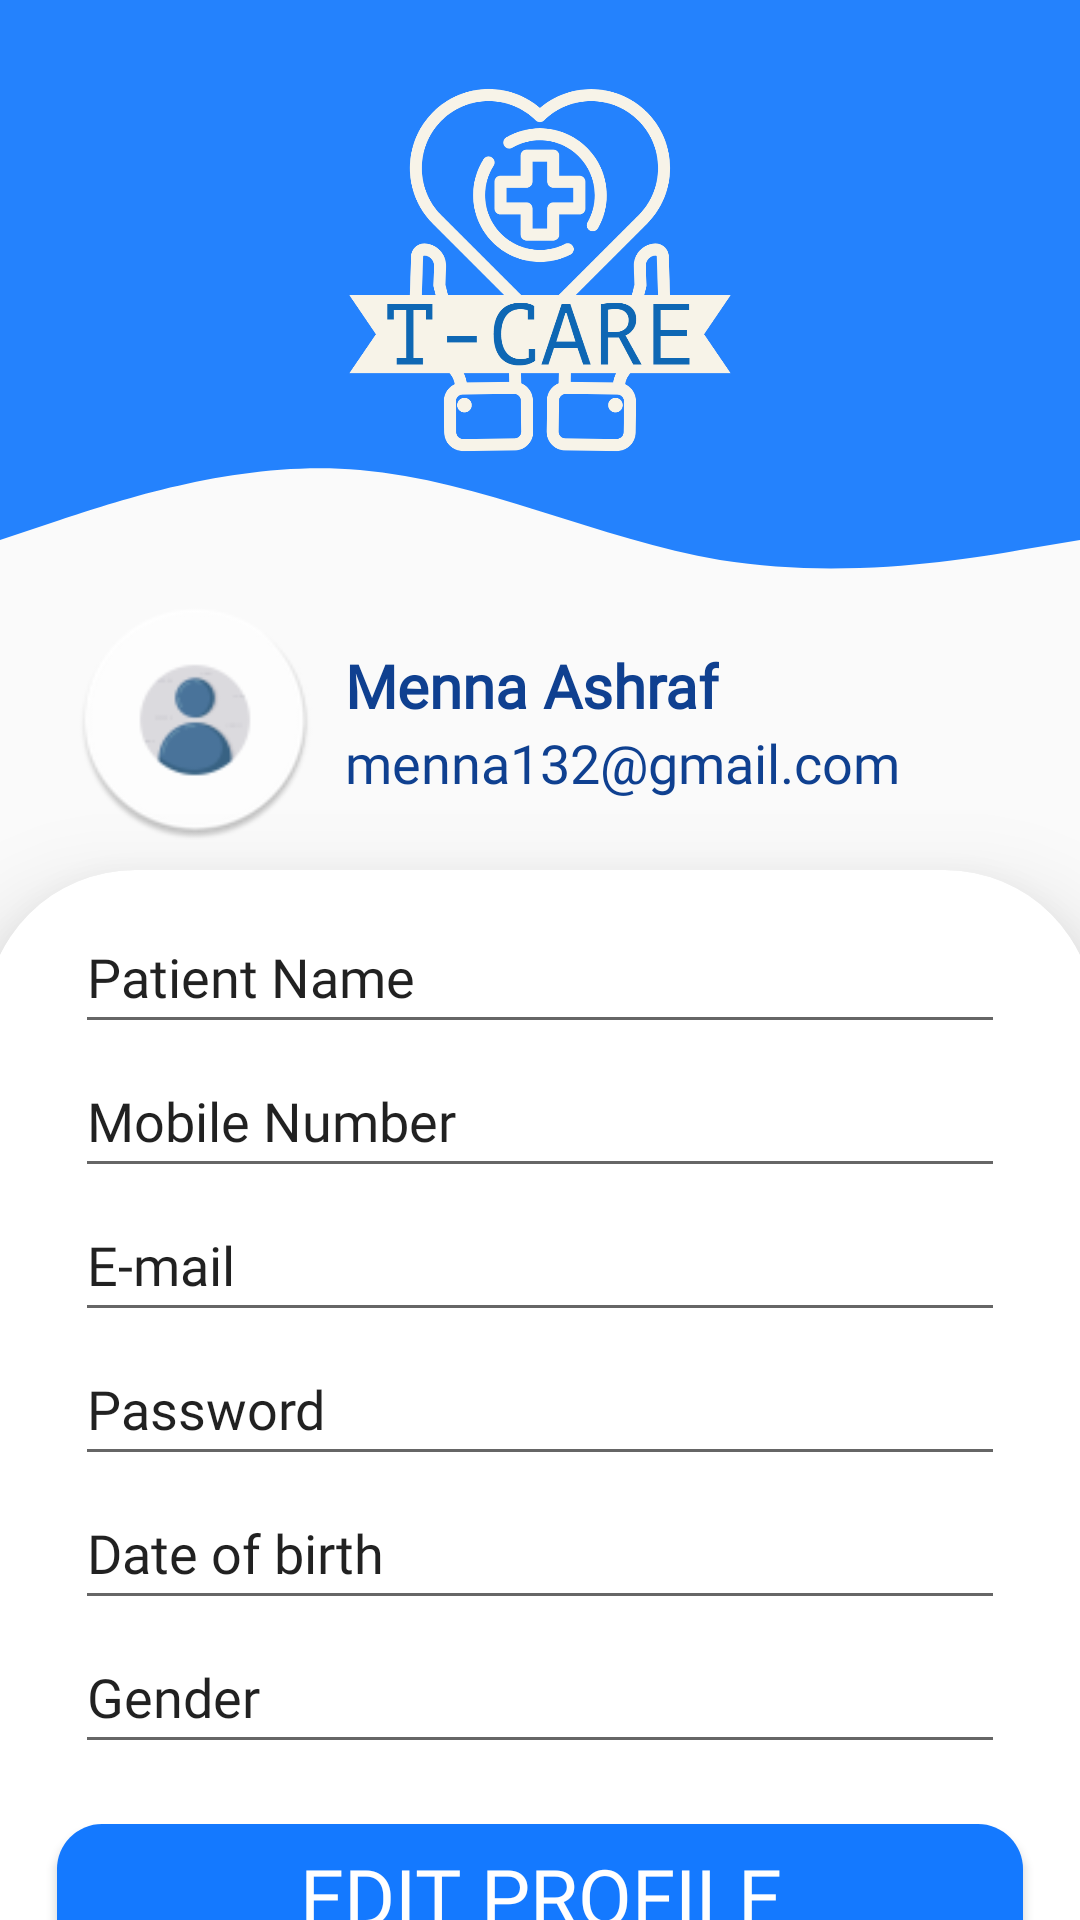

Icon bounding boxes for this 1080px×1920px phone screenshot, format Rect(x1, y1, x2, y2):
profile iconn: Rect(91, 666, 305, 836)
